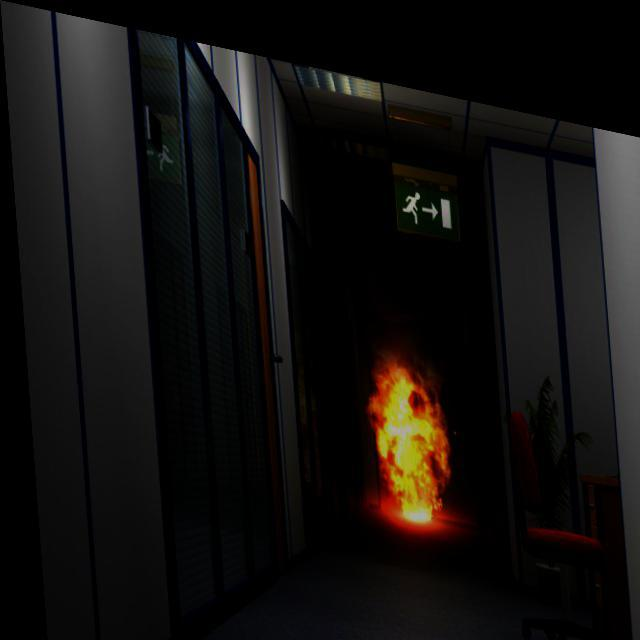Fire: (362, 340, 446, 504)
